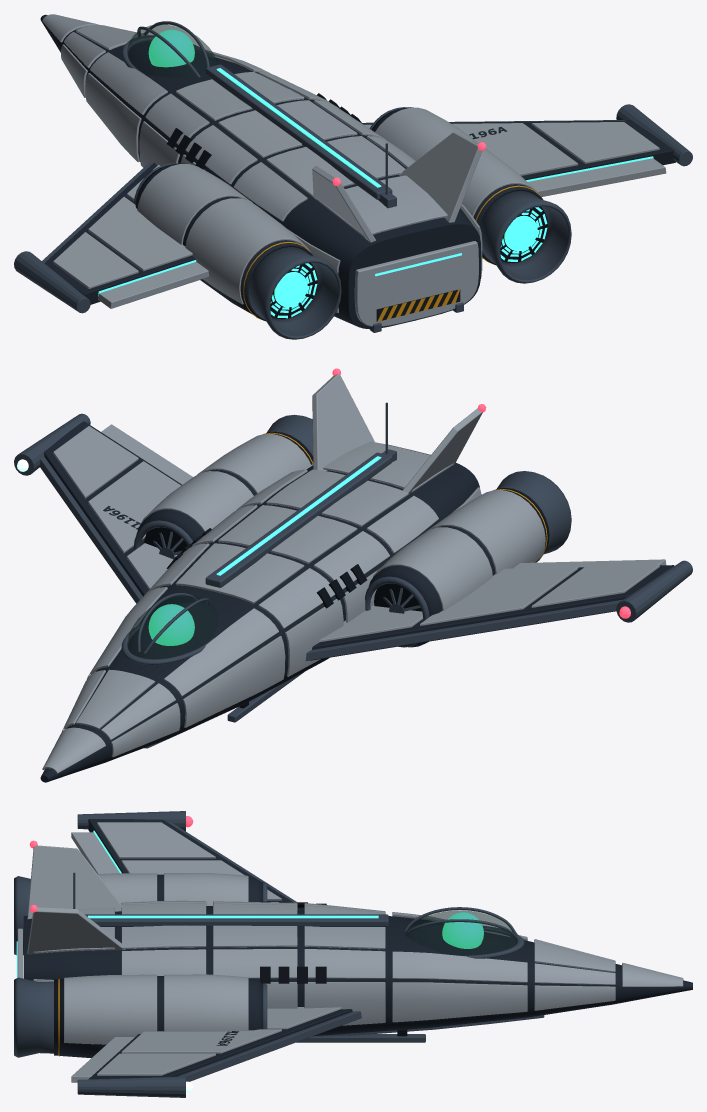
The model's file is end2-dropship.glb.
3 views of the same model, one above another, from view 1: azimuth 30°, elevation 25°; view 2: azimuth 150°, elevation 25°; view 3: azimuth 270°, elevation 25° (orthographic). The views are drawn at different scales.
Parts seen in each view (by area): view 1: hull, engine_l, wing_r, ramp_door, wing_l, nozzle_l_bell, nozzle_r_bell, engine_r, fin_r_mesh, plate_2_2, glass, plate_1_2 (+31 smaller); view 2: hull, engine_l, wing_l, wing_r, engine_r, plate_4_4, glass, fin_r_mesh, plate_2_2, plate_1_2, plate_4_3, plate_3_2 (+34 smaller); view 3: hull, engine_r, wing_r, plate_4_0, wing_l, fin_l_mesh, engine_l, glass, plate_4_1, fin_r_mesh, spine, nozzle_r_bell (+29 smaller).
Part boxes in pixels (<box>): hull: <box>40,14,481,328</box>; engine_l: <box>137,164,310,304</box>; wing_r: <box>364,122,659,175</box>; ramp_door: <box>354,241,478,326</box>; wing_l: <box>53,164,192,288</box>; nozzle_l_bell: <box>248,247,341,339</box>; nozzle_r_bell: <box>480,190,571,283</box>; engine_r: <box>375,107,539,216</box>; fin_r_mesh: <box>399,132,482,222</box>; plate_2_2: <box>218,100,357,157</box>; glass: <box>127,24,217,77</box>; plate_1_2: <box>266,136,405,196</box>; hull: <box>40,444,479,782</box>; engine_l: <box>373,490,545,610</box>; wing_l: <box>319,565,659,642</box>; wing_r: <box>53,426,181,589</box>; engine_r: <box>139,434,310,531</box>; plate_4_4: <box>182,636,285,727</box>; glass: <box>127,596,218,658</box>; fin_r_mesh: <box>312,374,374,470</box>; plate_2_2: <box>218,505,357,563</box>; plate_1_2: <box>266,469,408,526</box>; plate_4_3: <box>163,608,278,696</box>; plate_3_2: <box>175,543,304,603</box>; hull: <box>23,906,692,1036</box>; engine_r: <box>64,974,248,1044</box>; wing_r: <box>97,1007,341,1075</box>; plate_4_0: <box>392,982,527,1022</box>; wing_l: <box>97,822,281,902</box>; fin_l_mesh: <box>27,845,122,919</box>; engine_l: <box>97,873,248,905</box>; glass: <box>405,910,517,955</box>; plate_4_1: <box>392,951,527,982</box>; fin_r_mesh: <box>27,907,124,954</box>; spine: <box>85,914,388,926</box>; nozzle_r_bell: <box>14,977,53,1057</box>.
Size of the model in its own units: 19.22 by 4.95 by 20.09.
